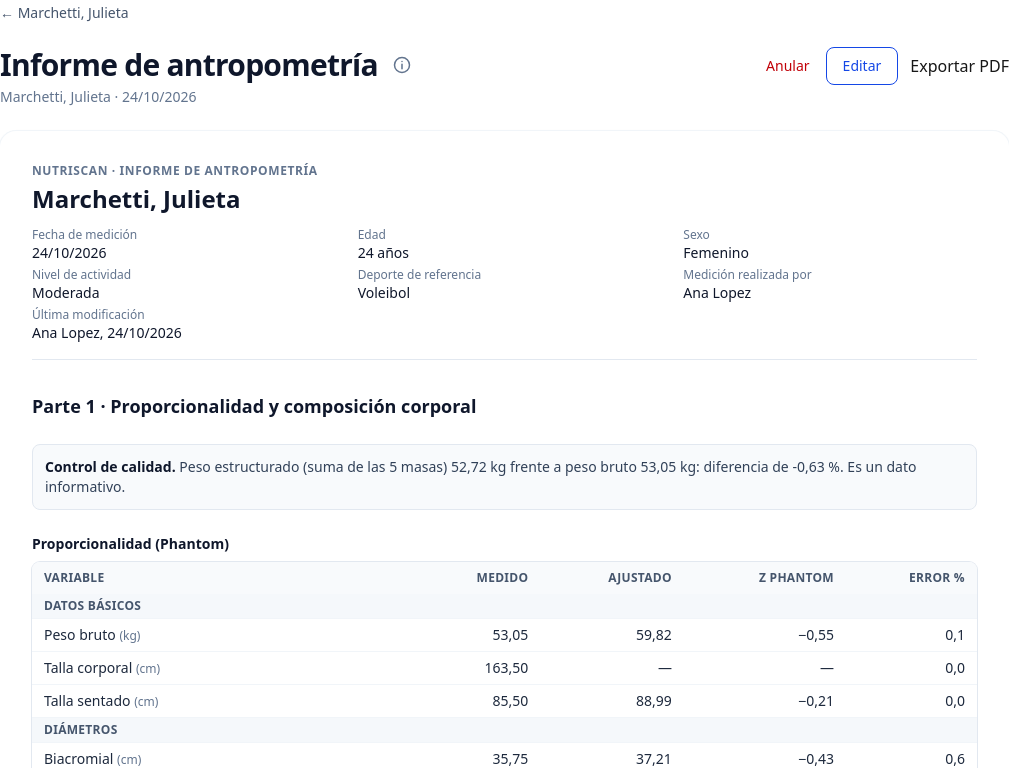
Test: páginas con fotos › informe › con fotos muestra la sección FUERA del informe imprimible, con signed URLs de corta duración
This screenshot has width=1024, height=768.
# la confirmación de anular conoce la cantidad
Step 1. Click the button "Anular" → (788, 66), box left=762, top=56, right=814, bottom=76
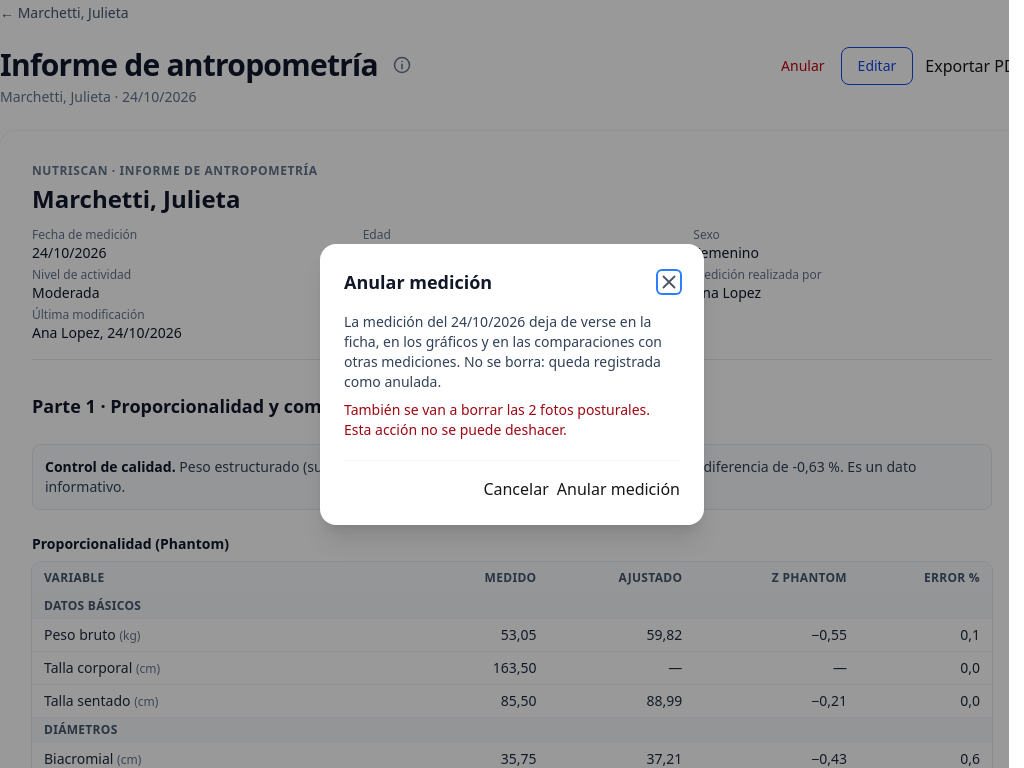
Expected: the dialog shows "También se van a borrar las 2 fotos posturales.", left=344, top=400, right=650, bottom=418
